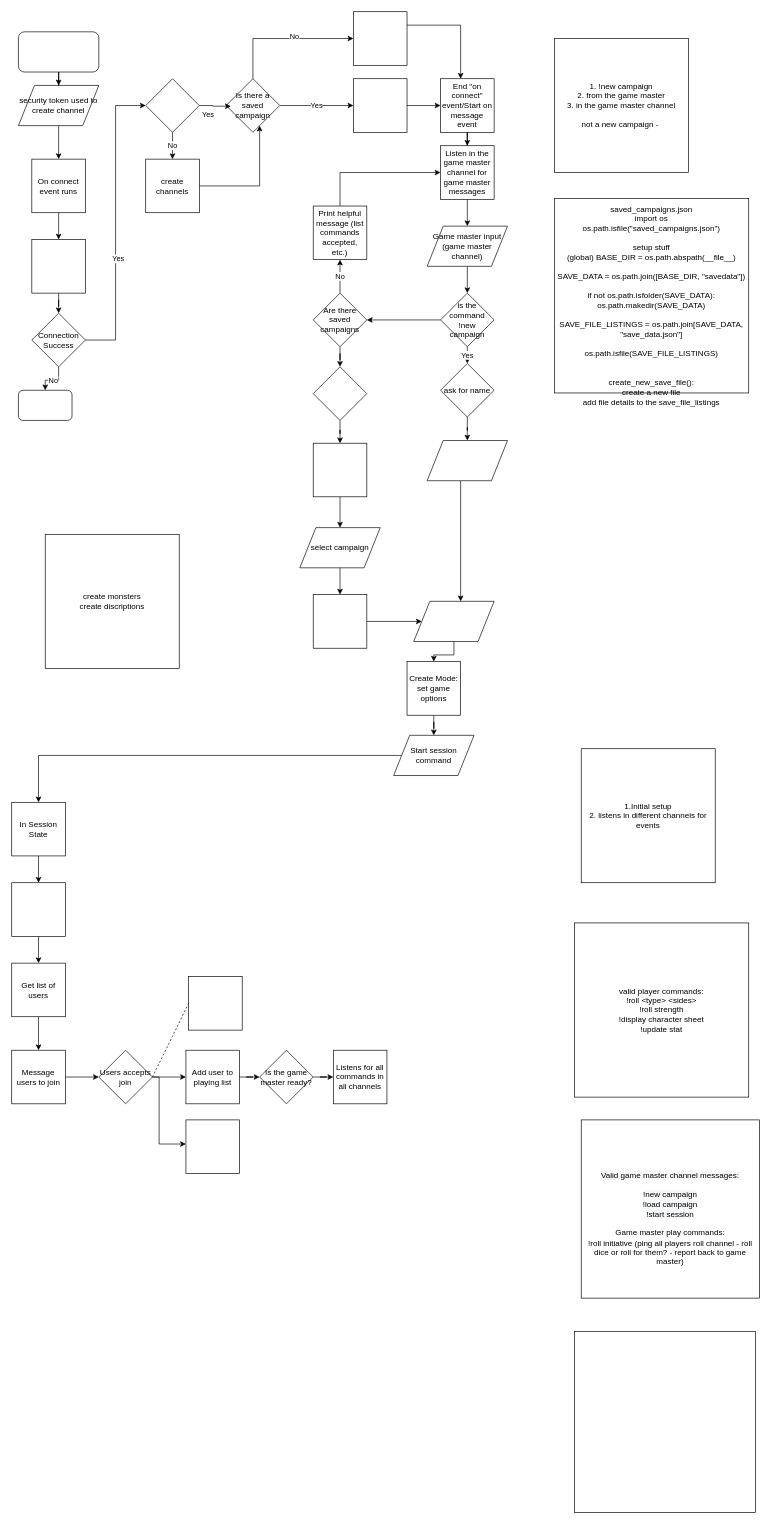
Image size: 771x1524. Some labels were removed from this diagram. Here are the shapes that lost their labels. From the top down, the centre of each, then its label:
At [58,51]: "Start".
At [380,38]: "No campaign saved State set".
At [172,105]: "Does the console channel and game master exist".
At [380,105]: "Connected/no active campaign set".
At [58,266]: "Names the server from discord logic - prints connection details to console".
At [45,405]: "End".
At [340,393]: "is the comamand !load campaign".
At [340,470]: "display saved campaigns and ask user for input".
At [467,460]: "Name of campaign".
At [340,621]: "Load campaign".
At [453,621]: "Game master option inputs".
At [38,909]: "Initial setup".
At [215,1003]: "Display character sheets".
At [212,1146]: "Create personal roll channel for the user".
